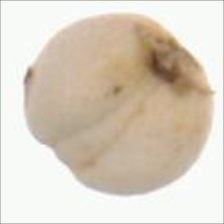L5: (41, 80, 155, 170), (134, 21, 217, 98)
L6: (19, 11, 215, 197)
